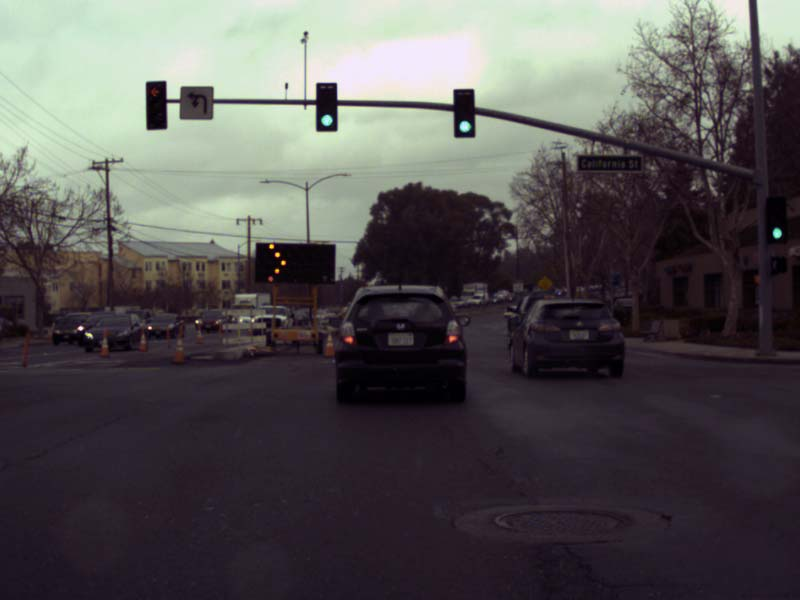Green: (316, 83, 336, 130), (454, 89, 473, 136), (767, 198, 785, 243)
Red: (146, 82, 165, 128)
